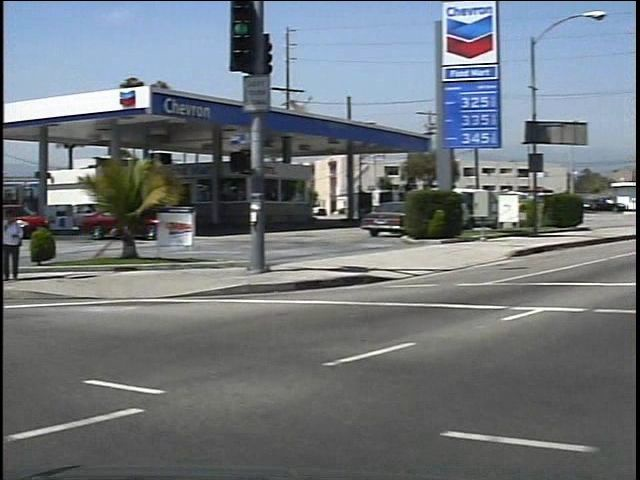person: (0, 203, 28, 286)
